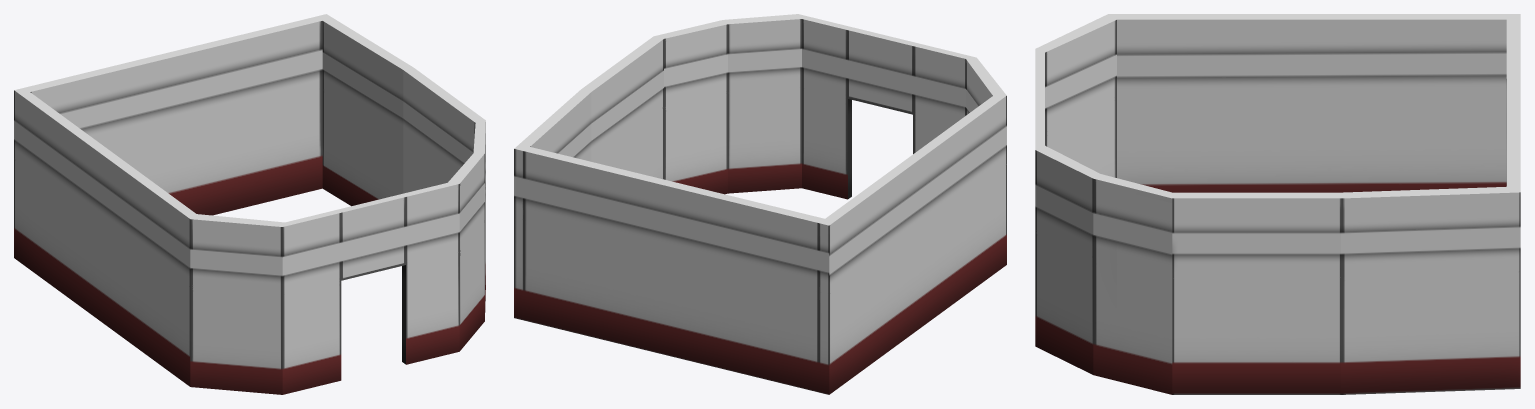
File: MainFirstFloorMeeting0.FBX
3 renders of one model, left to right at view 1: azimuth 30°, elevation 25°; view 2: azimuth 150°, elevation 25°; view 3: azimuth 270°, elevation 25°, orthographic. The views are drawn at different scales.
Visible parts, largest first — view 1: Box135; view 2: Box135; view 3: Box135.
Part boxes in pixels (left/top/right/bottom): Box135: left=14, top=14, right=485, bottom=394; Box135: left=514, top=14, right=1006, bottom=394; Box135: left=1035, top=14, right=1520, bottom=394.
Size of the model in its own units: 139 by 69.26 by 155.
Materials: 1 (1 with a texture image).
